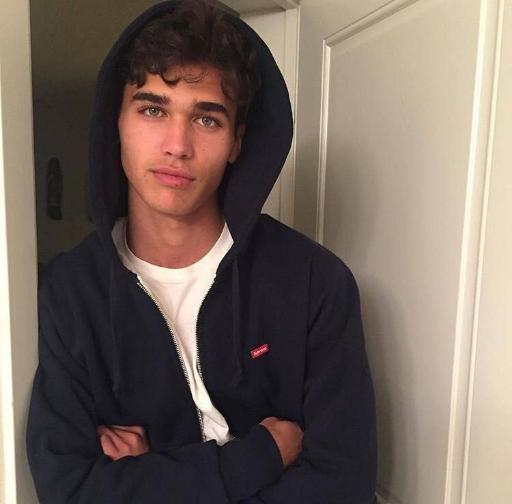left_eye: (192, 116, 223, 130)
left_lip_corner: (188, 175, 202, 185)
right_eye: (136, 106, 168, 121)
right_lip_corner: (146, 166, 160, 177)
